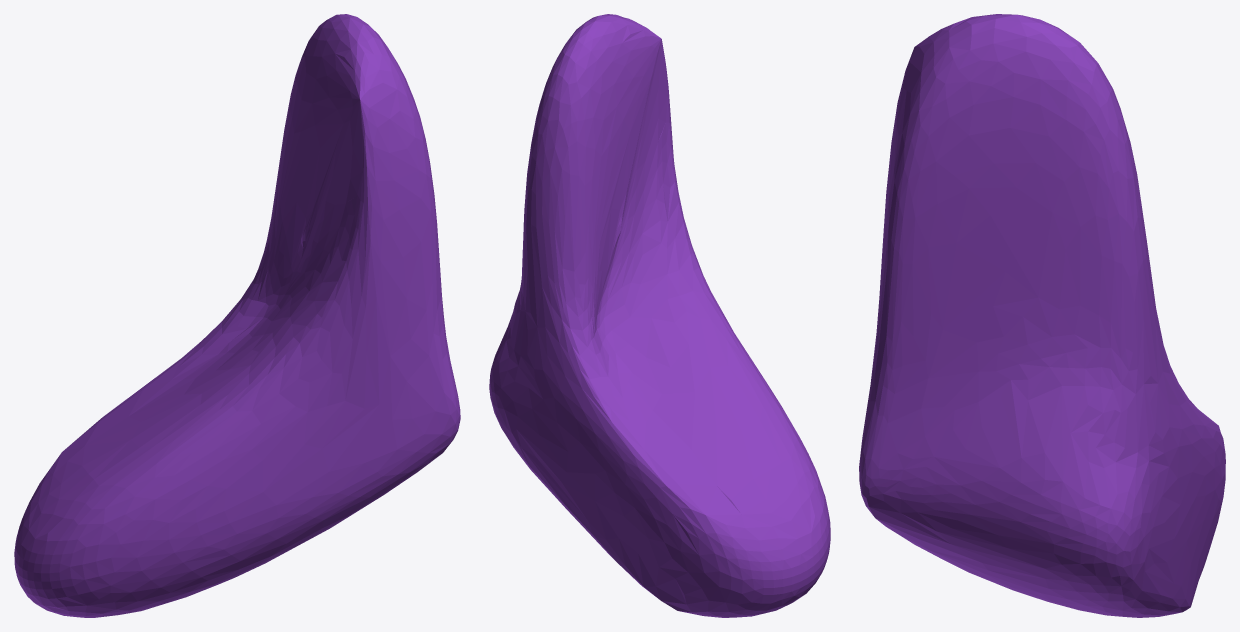
The picture shows the model from 3 angles, left to right: view 1: azimuth 30°, elevation 25°; view 2: azimuth 150°, elevation 25°; view 3: azimuth 270°, elevation 25°; orthographic projection. The views are drawn at different scales.
Visible parts, largest first — view 1: 461_Cube.1866; view 2: 461_Cube.1866; view 3: 461_Cube.1866.
Part boxes in pixels (bbox=[...]): 461_Cube.1866: bbox=[14, 14, 460, 617]; 461_Cube.1866: bbox=[489, 14, 830, 617]; 461_Cube.1866: bbox=[859, 14, 1225, 617].
Size of the model in its own units: 10.15 by 15.03 by 7.21.
